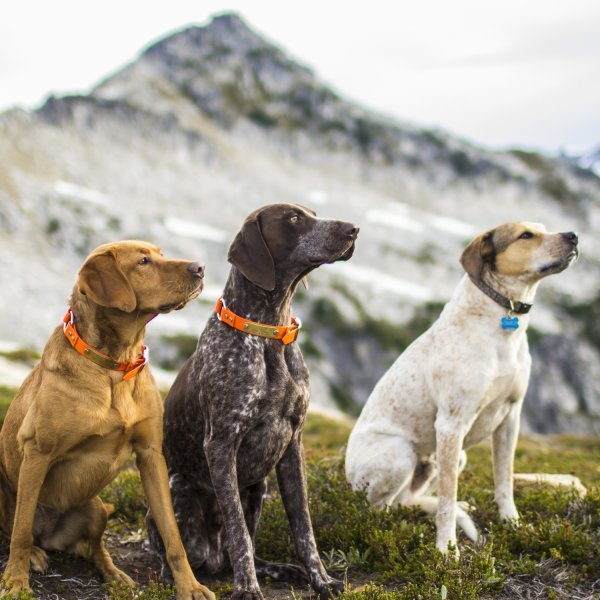dog: (12, 228, 219, 600), (193, 198, 371, 588), (378, 219, 587, 551)
